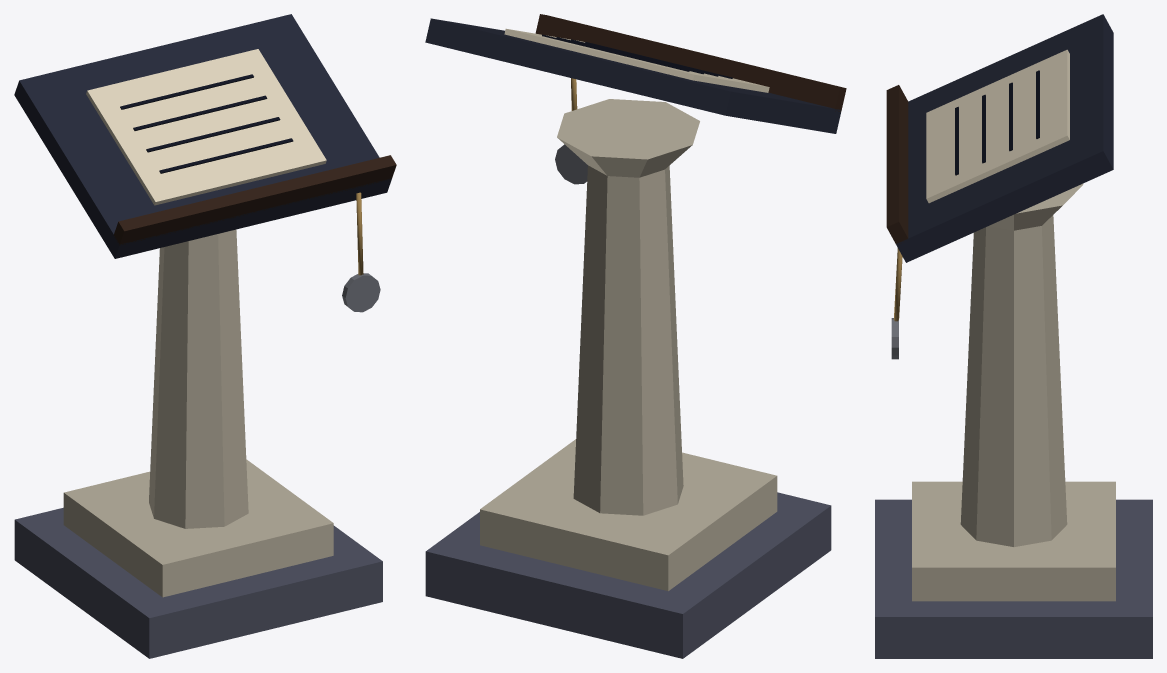
The model's file is lectern.glb.
3 views of the same model, side by side, from view 1: azimuth 30°, elevation 25°; view 2: azimuth 150°, elevation 25°; view 3: azimuth 270°, elevation 25° (orthographic). The views are drawn at different scales.
Parts seen in each view (by area): view 1: Lectern; view 2: Lectern; view 3: Lectern.
Part boxes in pixels (x1,y1,x2,y2): Lectern: (14, 14, 396, 658); Lectern: (425, 14, 846, 658); Lectern: (875, 14, 1152, 658).
Size of the model in its own units: 0.7 by 1.23 by 0.6.
